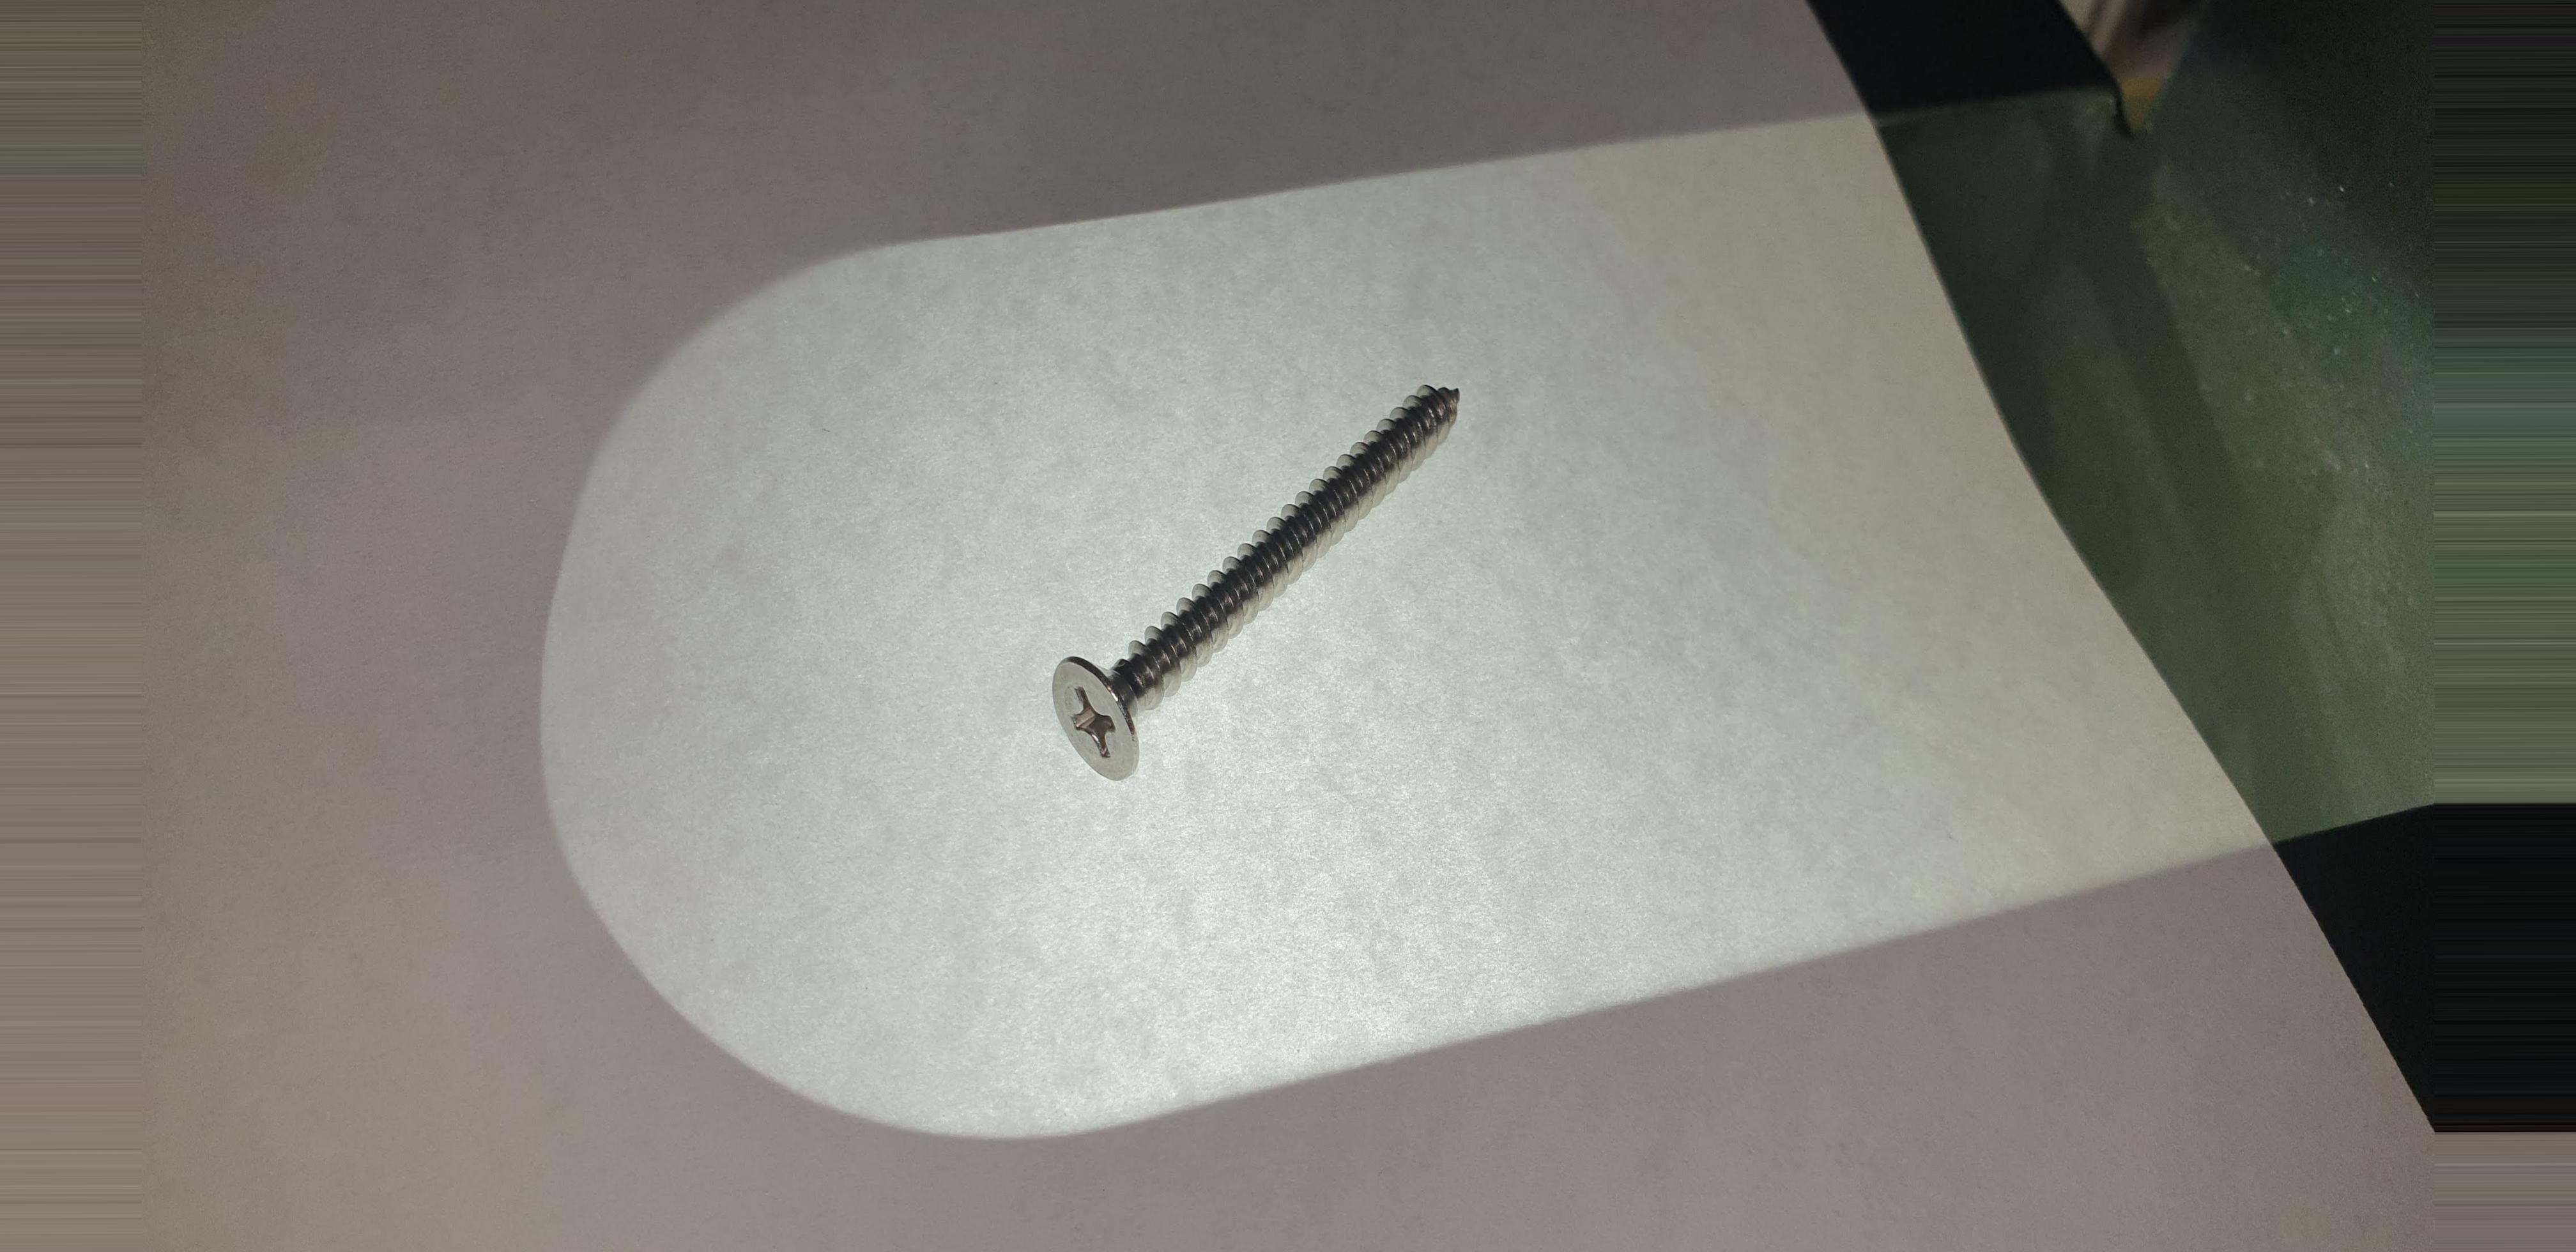fastener: (918, 345, 1595, 822)
